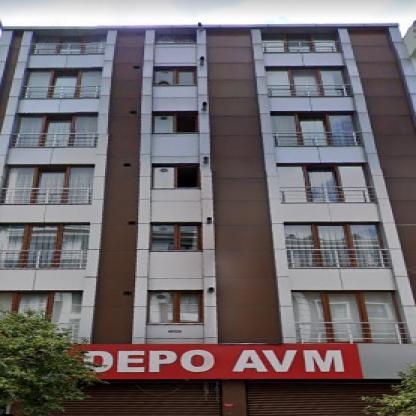window: (291, 292, 403, 340), (290, 224, 389, 266), (273, 164, 373, 200), (5, 164, 95, 202), (3, 226, 87, 264), (271, 113, 357, 146), (4, 290, 82, 324), (16, 115, 98, 144), (266, 70, 350, 95), (29, 69, 101, 96), (143, 292, 205, 320), (266, 32, 337, 52), (158, 223, 202, 250), (153, 163, 200, 187), (38, 34, 98, 52), (152, 109, 196, 132), (151, 69, 197, 85), (156, 31, 194, 43)
